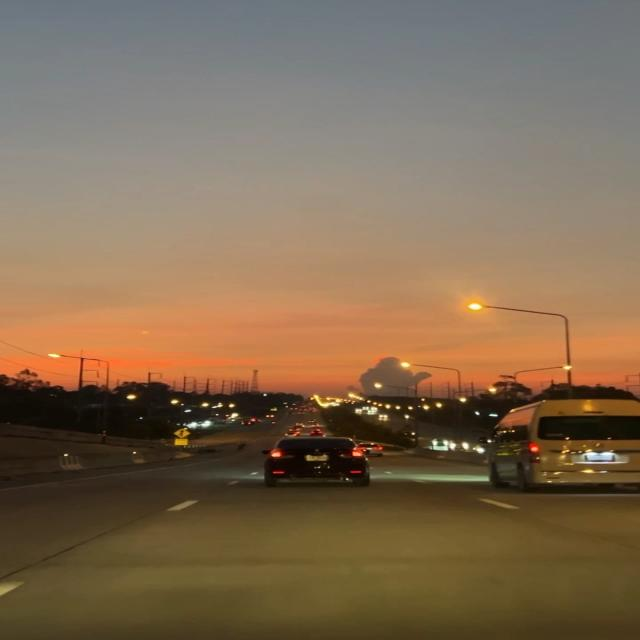Poth-hole: (94, 491, 640, 640)
